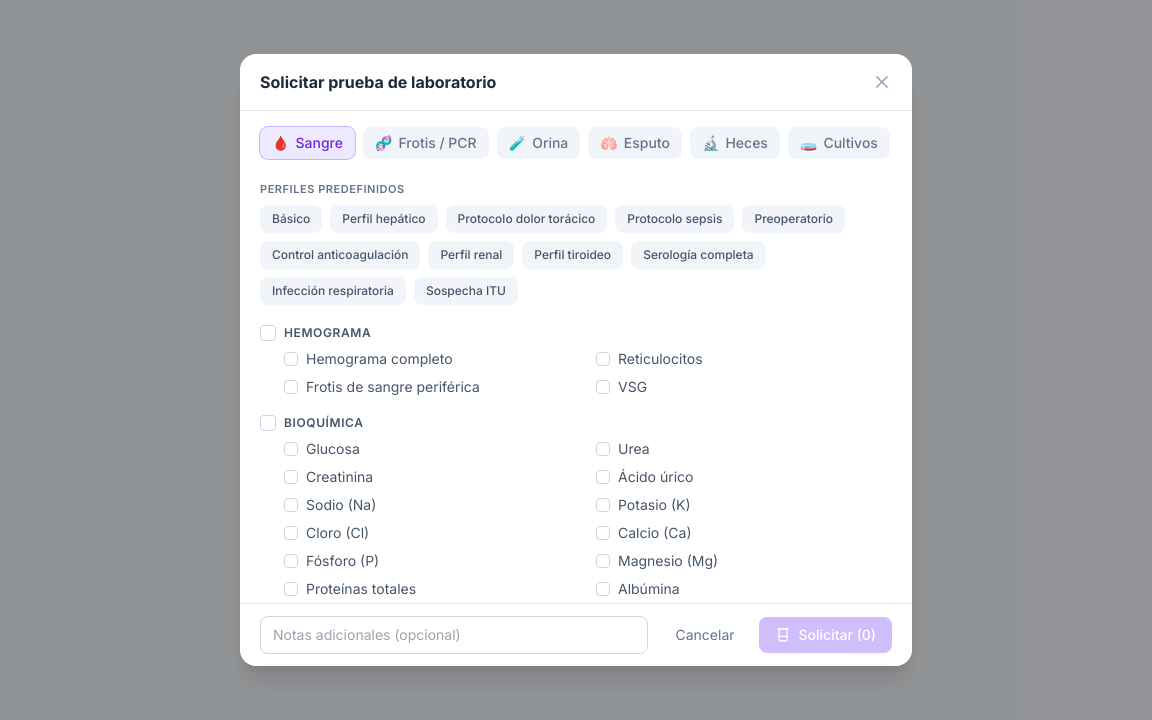
Test: NewLabTestModal › aplicar preset selecciona los parámetros del preset
Step 1. Click the button "Básico" → (291, 219), box [260, 205, 322, 233]
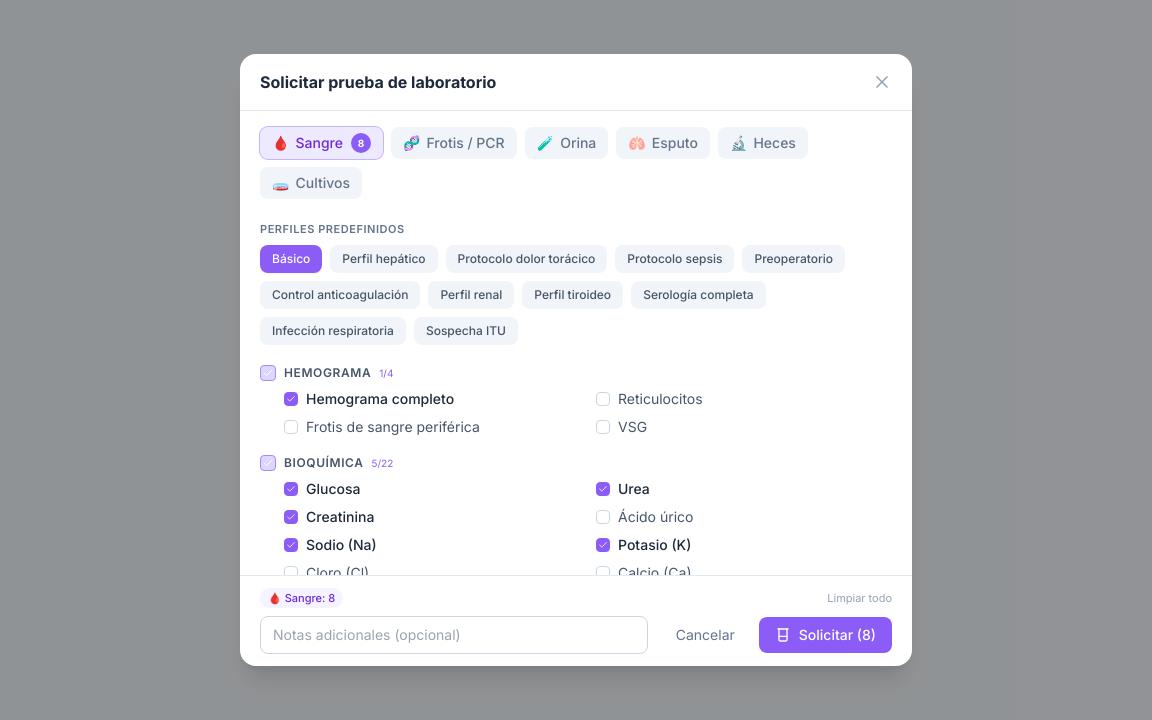
Expected: the button "Solicitar (8)" is shown, [759, 617, 892, 653]
